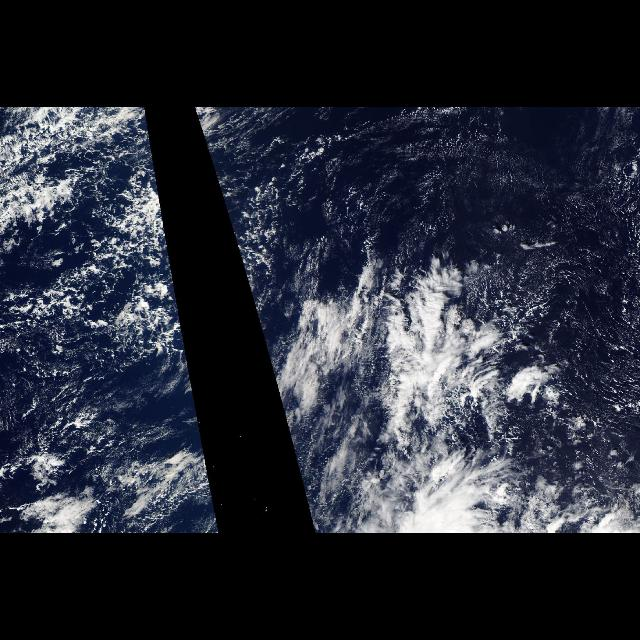Fish: (277, 242, 625, 534)
Gravel: (0, 107, 220, 533), (193, 108, 287, 428)
Sugar: (234, 110, 640, 274)
